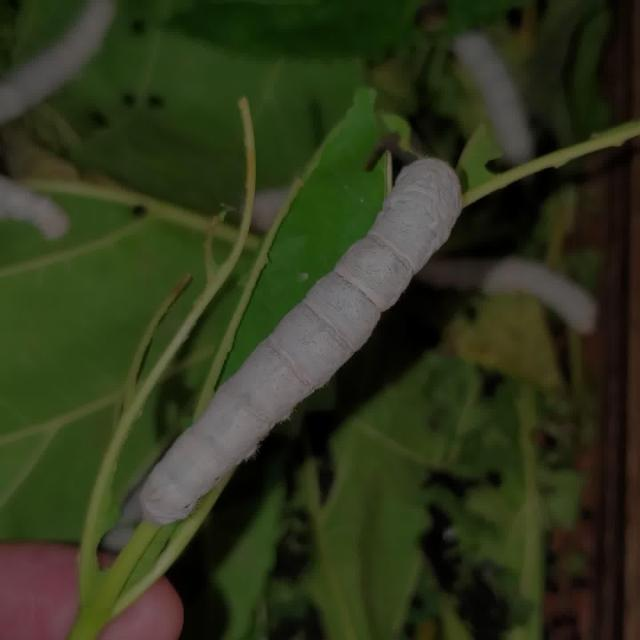Healthy: (113, 120, 492, 560)
